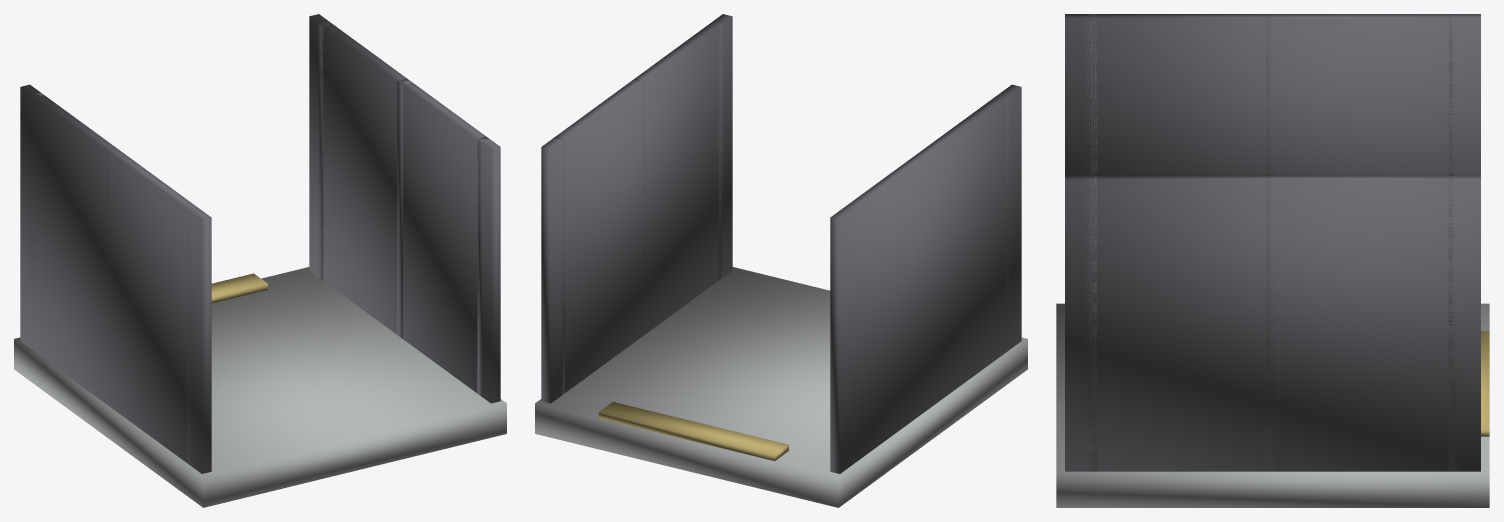
Rendered from floor_w125_d135_sides.glb.
3 views of the same model, side by side, from view 1: azimuth 30°, elevation 25°; view 2: azimuth 150°, elevation 25°; view 3: azimuth 270°, elevation 25° (orthographic). The views are drawn at different scales.
Visible parts, largest first — view 1: world; view 2: world; view 3: world.
Boxes of the visible parts, x1,y1,x2,y2 form: world: [14, 14, 506, 507]; world: [535, 14, 1027, 507]; world: [1056, 14, 1489, 507].
Bounding box in the file's own units: 1.25 × 1.12 × 1.35.
